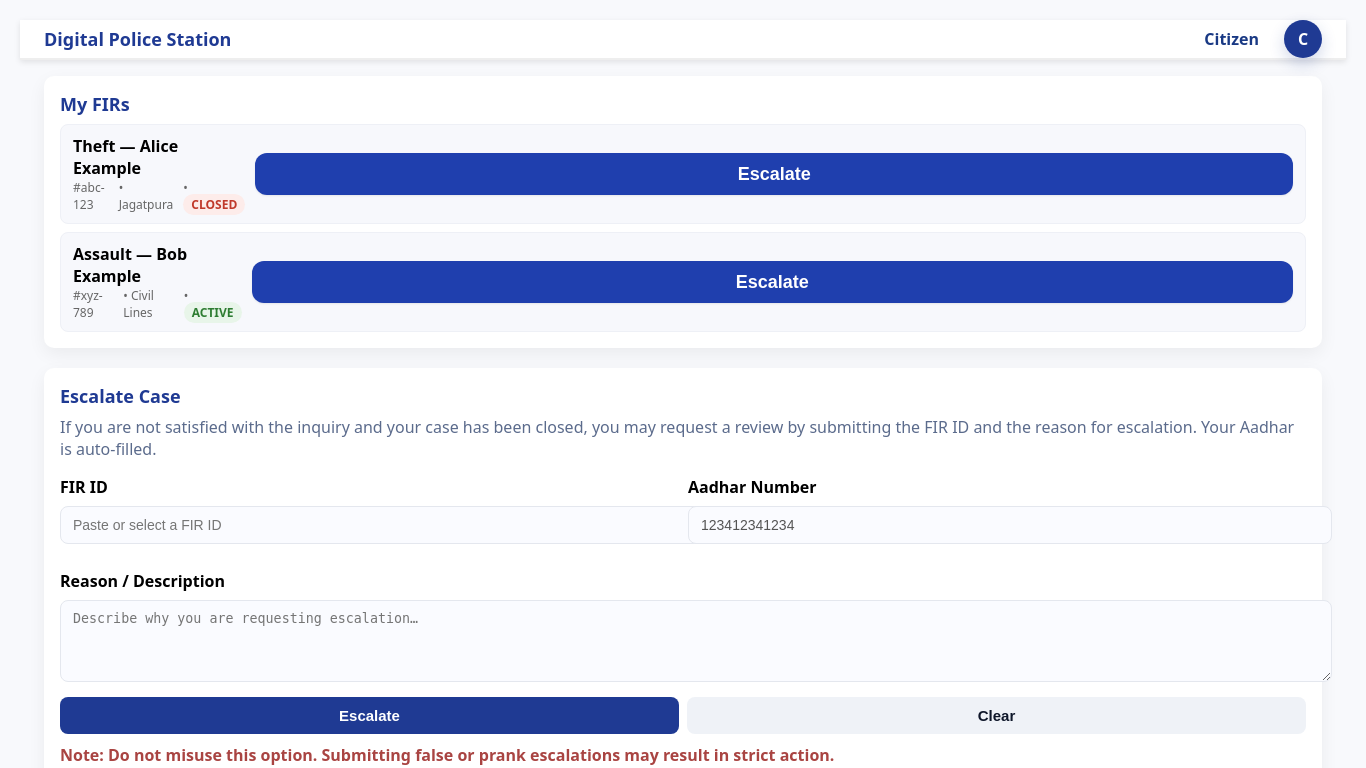
Test: CitizenDashboard › opens FIR details modal when a FIR row is clicked
Click the list item "Theft — Alice Example #abc-123 • Jagatpura • CLOSED Escalate".
click(683, 174)  # box [60,124,1306,224]
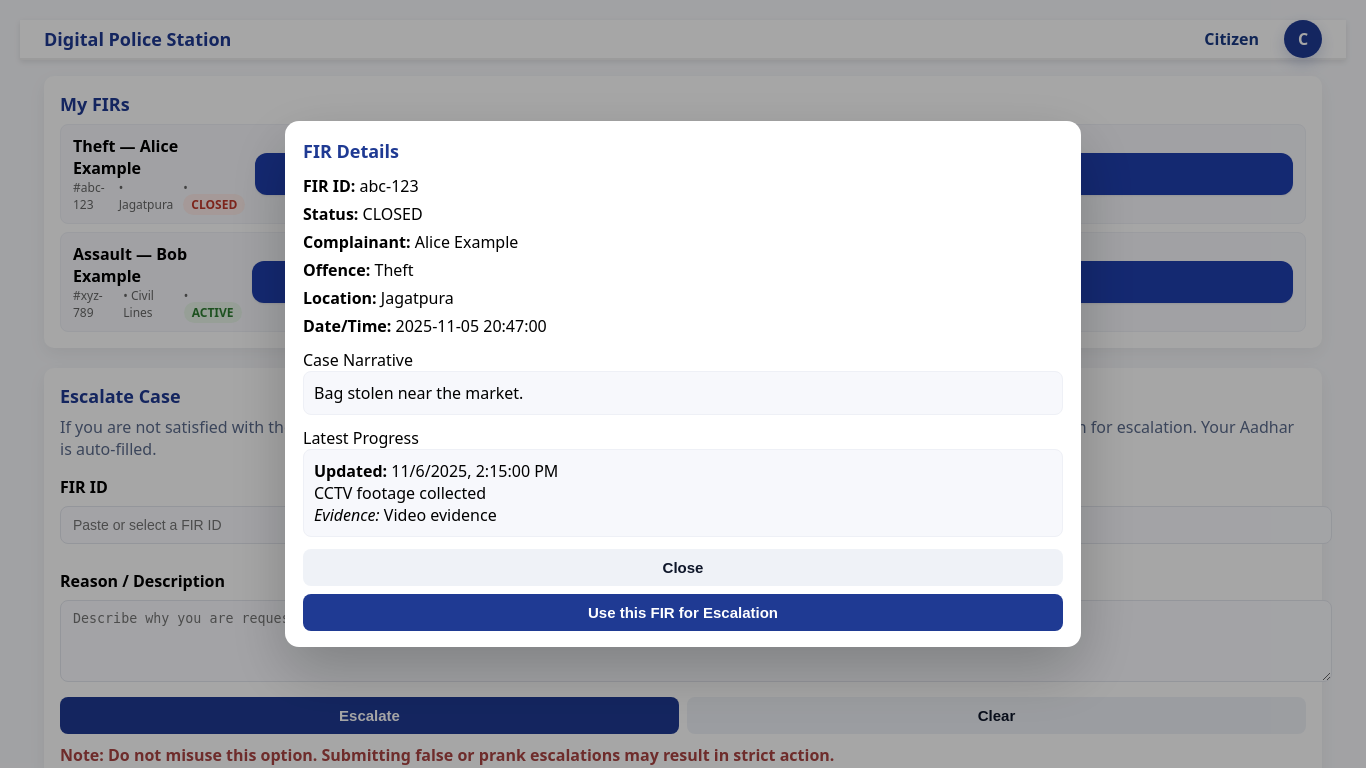
Expected: the text "FIR Details" is shown, [303,139,399,163]
Expected: the text "FIR ID:" is shown, [303,175,355,197]
Expected: the text "abc-123" is shown, [360,175,419,197]
